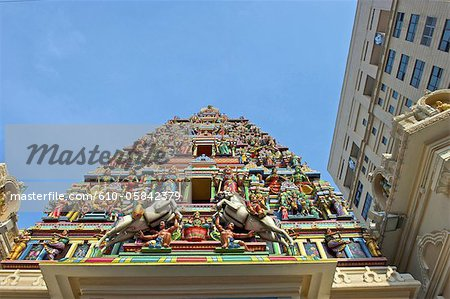Hindu Temple: (41, 101, 369, 287)
